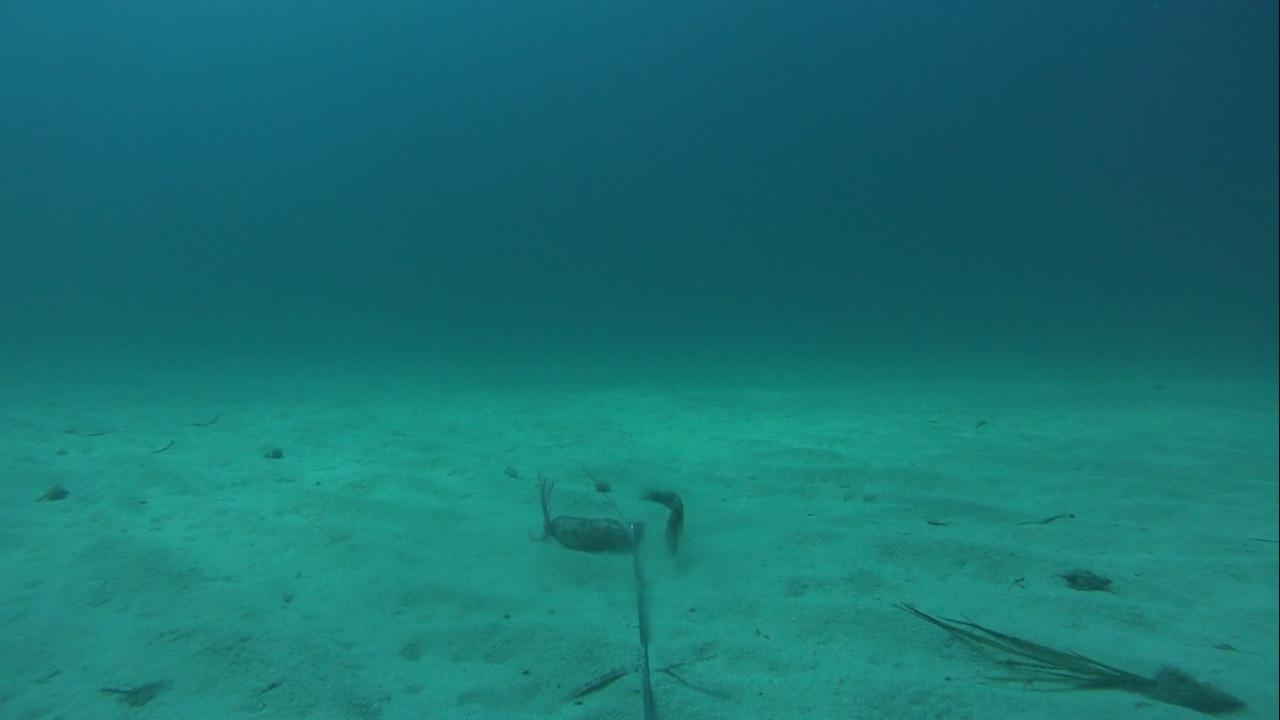raor: (629, 481, 697, 554)
